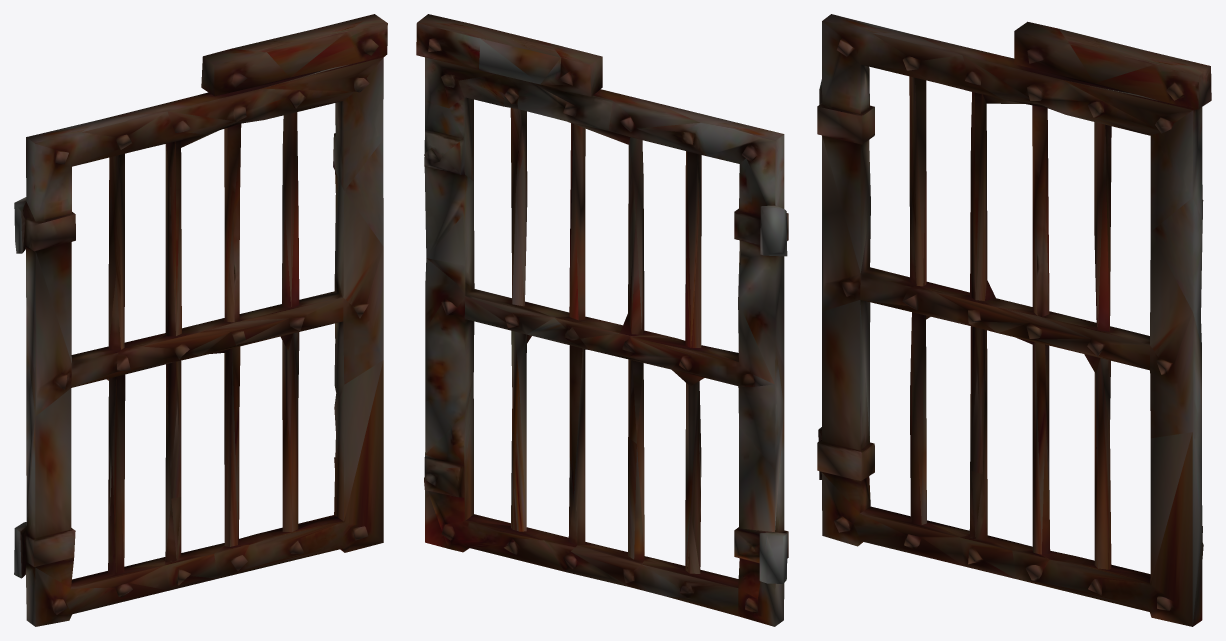
The model's file is cell_door_ready.glb.
3 renders of one model, left to right at view 1: azimuth 30°, elevation 25°; view 2: azimuth 150°, elevation 25°; view 3: azimuth 330°, elevation 25°, orthographic. The views are drawn at different scales.
Parts seen in each view (by area): view 1: Module; view 2: Module; view 3: Module.
Boxes of the visible parts, x1,y1,x2,y2 form: Module: (14,14,387,626); Module: (416,14,788,626); Module: (817,14,1211,626).
Size of the model in its own units: 2.2 by 3 by 0.2.
Materials: 1 (1 with a texture image).
